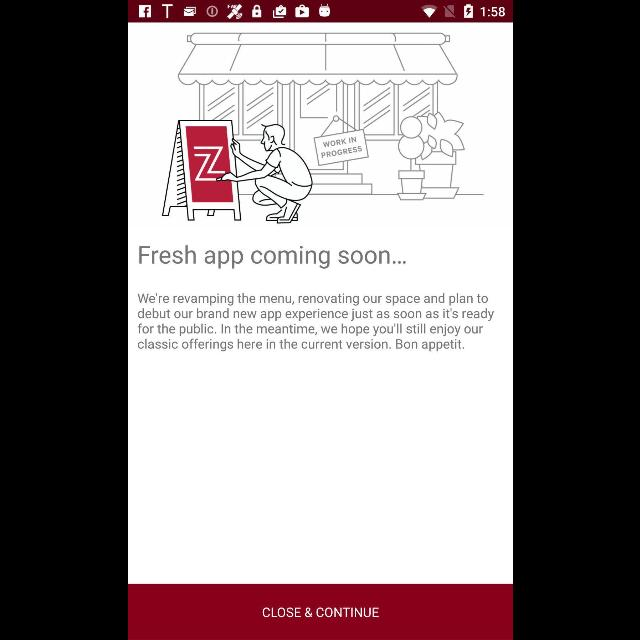image: (158, 32, 484, 224)
text: (136, 293, 494, 352), (138, 245, 406, 269)
textbutton: (128, 584, 512, 640)
uppertaskbar: (128, 1, 512, 23)
